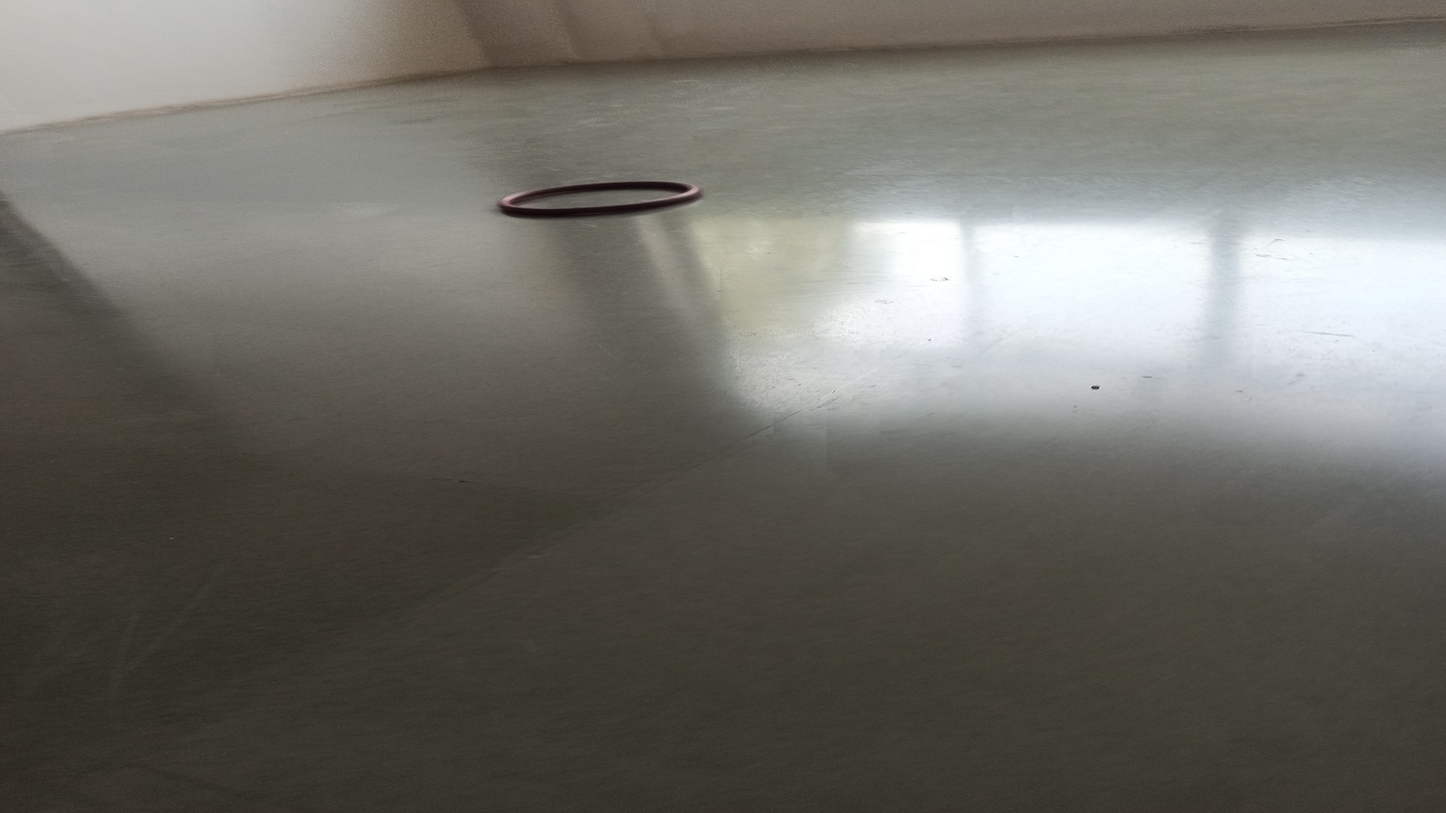Red ring: (498, 180, 705, 214)
